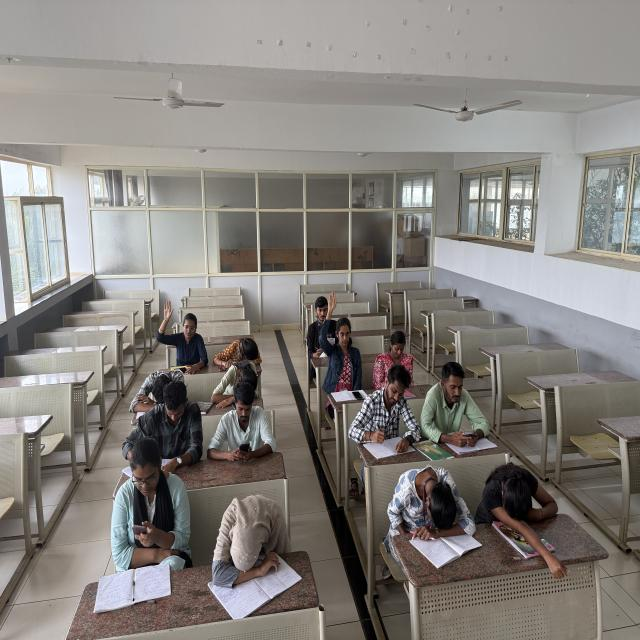Hand Rising: (319, 290, 360, 402), (155, 292, 208, 372)
Reading: (306, 289, 340, 367)
Sleeping: (474, 457, 571, 577), (203, 489, 294, 589), (382, 456, 473, 555), (126, 364, 188, 421), (209, 356, 262, 409), (209, 331, 268, 373)
Using Phone: (100, 431, 198, 574), (414, 364, 497, 451), (204, 382, 281, 468), (369, 324, 416, 388)
Writing: (110, 381, 202, 475), (344, 361, 420, 457)
